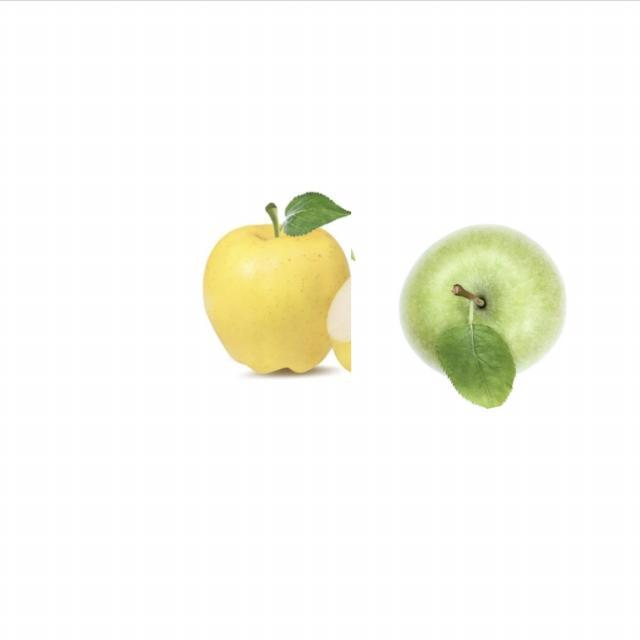Fresh Apple: (206, 197, 356, 388), (398, 225, 560, 393)
